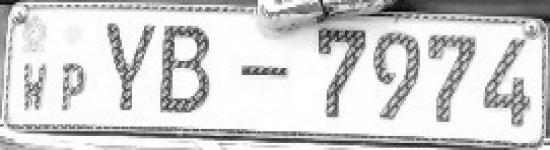-: (238, 56, 292, 90)
4: (478, 31, 532, 132)
7: (312, 24, 369, 126), (423, 27, 478, 132)
9: (371, 25, 422, 128)
B: (157, 20, 214, 124)
P: (58, 60, 90, 116)
W: (19, 57, 50, 115)
Y: (103, 18, 157, 118)
